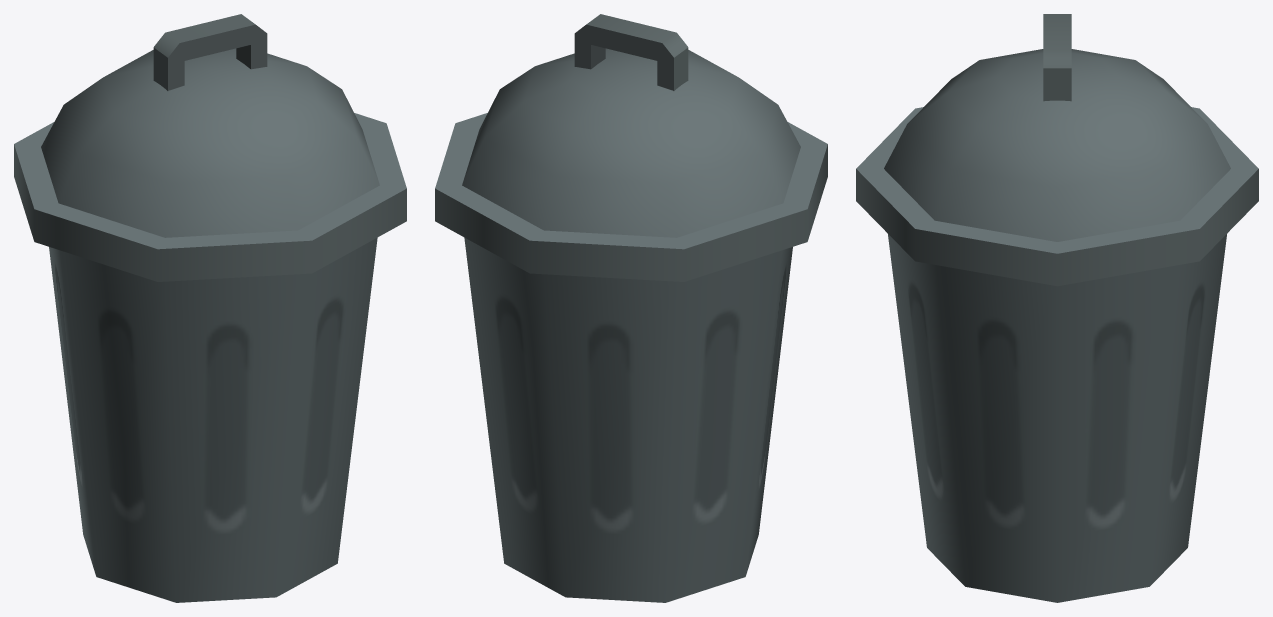
Rendered from Dumpster_B1.fbx.
3 renders of one model, left to right at view 1: azimuth 30°, elevation 25°; view 2: azimuth 150°, elevation 25°; view 3: azimuth 270°, elevation 25°, orthographic.
Parts seen in each view (by area): view 1: Dumpster_B1; view 2: Dumpster_B1; view 3: Dumpster_B1.
Part boxes in pixels (bbox=[...]): Dumpster_B1: bbox=[14, 14, 406, 602]; Dumpster_B1: bbox=[435, 14, 827, 602]; Dumpster_B1: bbox=[856, 14, 1258, 602].
Bounding box in the file's own units: 91.88 × 130 × 91.88.
